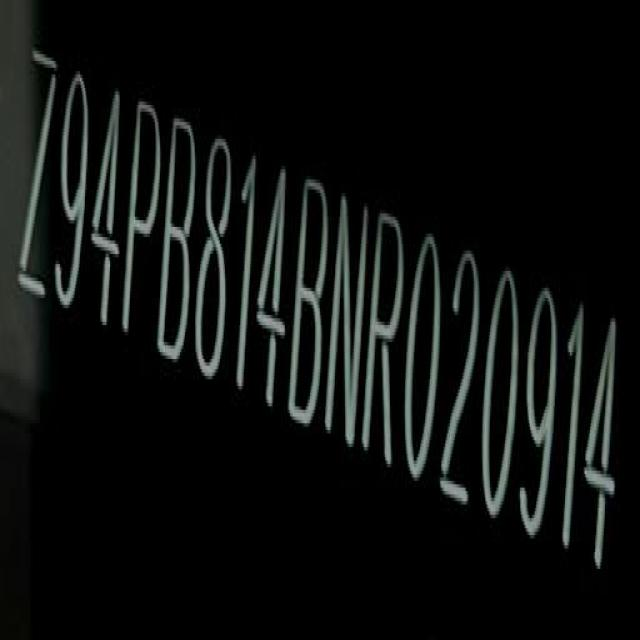0: (400, 226, 445, 493), (479, 264, 523, 529)
1: (552, 298, 589, 563), (231, 145, 257, 396)
2: (438, 251, 485, 513)
4: (580, 322, 626, 580), (86, 78, 128, 333), (254, 159, 296, 412)
8: (194, 129, 236, 380)
9: (516, 287, 562, 547), (49, 62, 92, 318)
B: (288, 168, 334, 430), (157, 104, 201, 366)
N: (324, 187, 373, 452)
P: (120, 90, 166, 349)
R: (364, 205, 410, 470)
Z: (12, 44, 60, 301)
